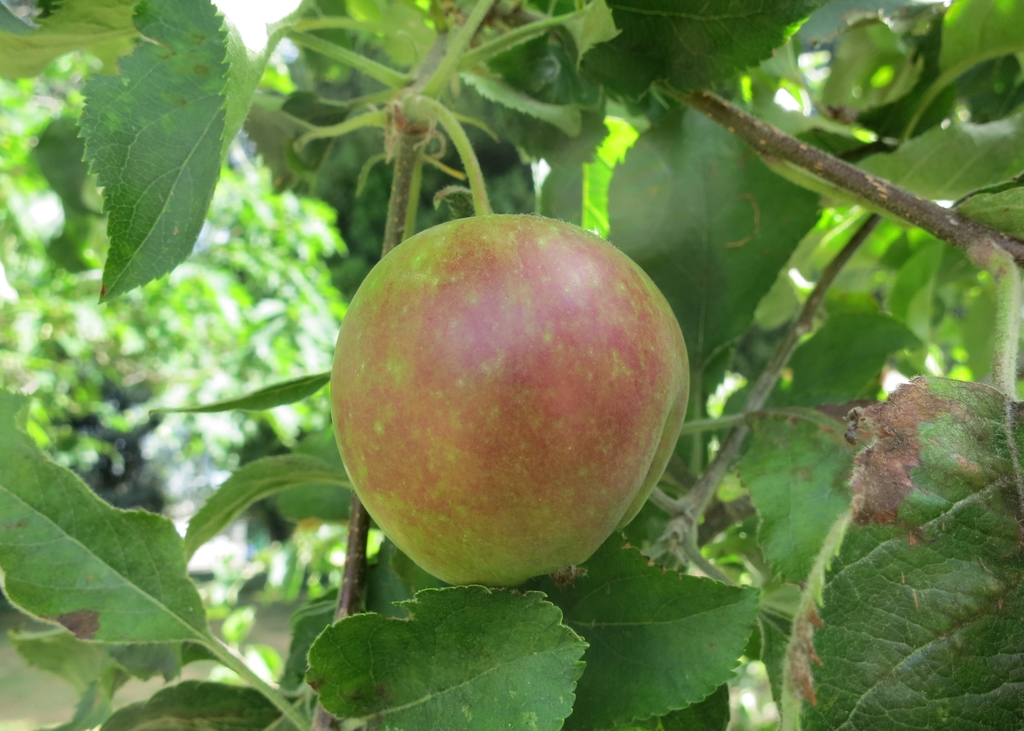Apple: (335, 205, 692, 579)
